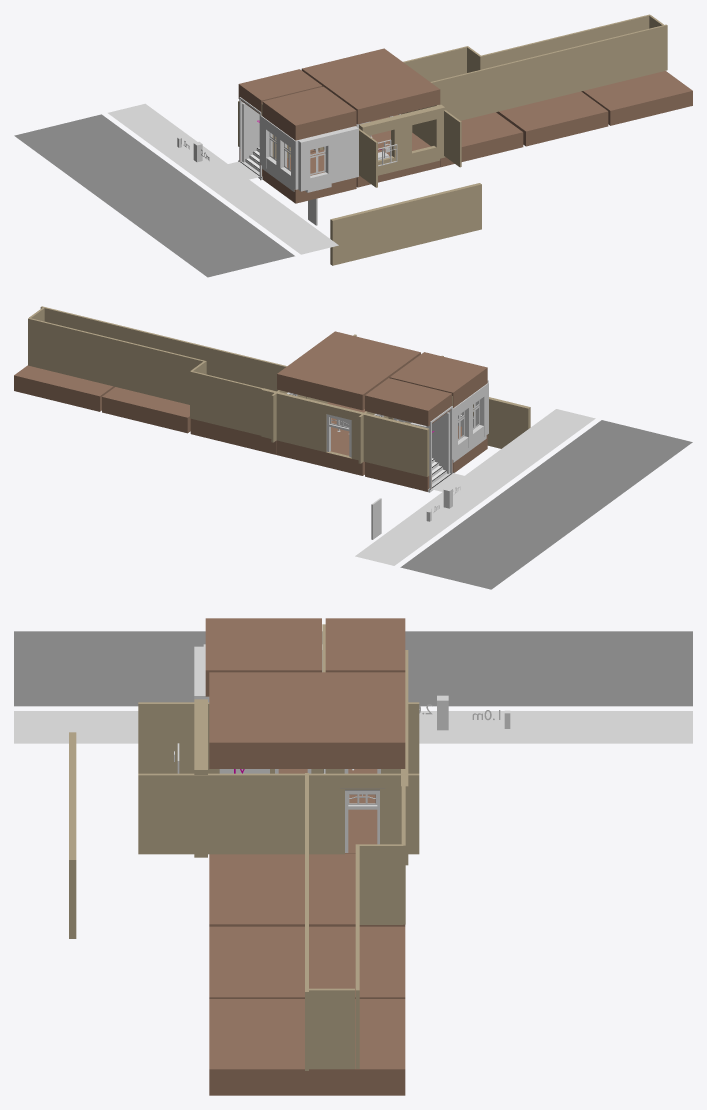
File: museu fundation74.fbx
3 renders of one model, top to bottom at view 1: azimuth 30°, elevation 25°; view 2: azimuth 150°, elevation 25°; view 3: azimuth 270°, elevation 25°, orthographic. The views are drawn at different scales.
Parts seen in each view (by area): view 1: road, wall01.004, wall03, sidewalk, chesthall.001, chesthall.003, chesthall.004, signhall.001, Cube.038, wall01.007, chesthall.002, Cube.040 (+12 smaller); view 2: road, wall01.007, sidewalk, wall01.001, chesthall.001, wall01.004, wall01.005, entrancehall.001, signhall.001, chesthall.004, chesthall.003, chesthall (+9 smaller); view 3: road, wall01.003, chesthall.001, chesthall.004, chesthall.003, sidewalk, chesthall.002, signhall.001, wall01.002, entrancehall.001, wall01.008, wall01.006 (+6 smaller).
Part boxes in pixels (x1=…): road: x1=14, y1=114, x2=294, y2=277; wall01.004: x1=410, y1=24, x2=667, y2=132; wall03: x1=330, y1=183, x2=481, y2=265; sidewalk: x1=108, y1=103, x2=338, y2=254; chesthall.001: x1=301, y1=48, x2=440, y2=124; chesthall.003: x1=496, y1=91, x2=608, y2=146; chesthall.004: x1=581, y1=71, x2=692, y2=125; signhall.001: x1=262, y1=86, x2=356, y2=140; Cube.038: x1=298, y1=126, x2=358, y2=191; wall01.007: x1=480, y1=14, x2=650, y2=69; chesthall.002: x1=393, y1=112, x2=523, y2=167; Cube.040: x1=359, y1=104, x2=445, y2=167; road: x1=400, y1=420, x2=692, y2=589; wall01.007: x1=28, y1=318, x2=204, y2=404; sidewalk: x1=355, y1=409, x2=595, y2=565; wall01.001: x1=261, y1=388, x2=429, y2=476; chesthall.001: x1=277, y1=331, x2=420, y2=410; wall01.004: x1=40, y1=306, x2=308, y2=398; wall01.005: x1=190, y1=370, x2=262, y2=435; entrancehall.001: x1=365, y1=378, x2=451, y2=426; signhall.001: x1=389, y1=352, x2=487, y2=408; chesthall.004: x1=14, y1=365, x2=114, y2=411; chesthall.003: x1=102, y1=387, x2=190, y2=433; chesthall: x1=277, y1=402, x2=398, y2=475; road: x1=14, y1=631, x2=692, y2=706; wall01.003: x1=138, y1=773, x2=419, y2=854; chesthall.001: x1=209, y1=672, x2=405, y2=768; chesthall.004: x1=209, y1=999, x2=405, y2=1095; chesthall.003: x1=209, y1=926, x2=405, y2=998; sidewalk: x1=14, y1=711, x2=692, y2=743; chesthall.002: x1=209, y1=853, x2=405, y2=926; signhall.001: x1=205, y1=618, x2=321, y2=696; wall01.002: x1=138, y1=702, x2=419, y2=773; entrancehall.001: x1=325, y1=618, x2=405, y2=672; wall01.008: x1=309, y1=988, x2=354, y2=1069; wall01.006: x1=355, y1=844, x2=403, y2=924.
Bounding box in the file's own units: 6128 × 1563 × 3788.
